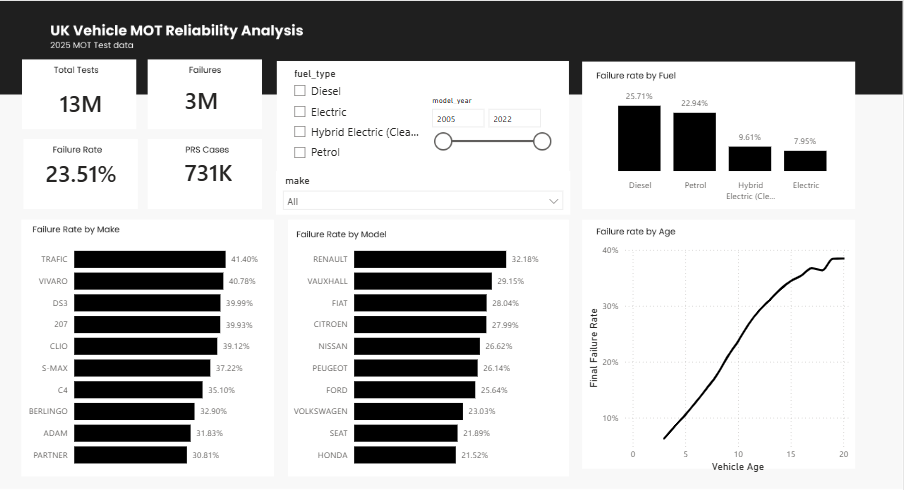

The page's visual inventory and layout, read from the dashboard file:
{"tool":"powerbi","page":{"name":"Page 1","canvas":[1280,720],"ordinal":0},"visuals":[{"type":"cardVisual","fields":{"Data":["mot_reliability.Total Tests"]},"box":[56.7,107.7,124.7,92.1],"z":0},{"type":"cardVisual","fields":{"Data":["mot_reliability.Total Failures"]},"box":[233.9,102,124.7,97.8],"z":1000},{"type":"cardVisual","fields":{"Data":["mot_reliability.Final Failure Rate"]},"box":[36.9,205.5,164.4,97.8],"z":2000},{"type":"cardVisual","fields":{"Data":["mot_reliability.Total PRS"]},"box":[233.9,199.8,136.1,103.5],"z":3000},{"type":"clusteredBarChart","fields":{"Category":["mot_reliability.make"],"Y":["mot_reliability.Final Failure Rate"]},"box":[405.4,340.2,365.7,344.4],"z":4000},{"type":"clusteredBarChart","fields":{"Category":["mot_reliability.model"],"Y":["mot_reliability.Final Failure Rate"]},"box":[32.6,340.2,347.2,344.4],"z":5000},{"type":"lineChart","fields":{"Y":["mot_reliability.Final Failure Rate"],"Category":["mot_reliability.Vehicle Age"]},"box":[829.1,350.1,382.7,334.5],"z":6000},{"type":"clusteredColumnChart","fields":{"Category":["mot_reliability.fuel_type"],"Y":["mot_reliability.Final Failure Rate"]},"box":[829.1,123.3,382.7,180],"z":7000},{"type":"slicer","fields":{"Values":["mot_reliability.make"]},"box":[392.6,252.3,416.7,62.4],"z":7001},{"type":"slicer","fields":{"Values":["mot_reliability.model_year"]},"box":[600.9,140.3,189.9,95],"z":7002},{"type":"slicer","fields":{"Values":["mot_reliability.fuel_type"]},"box":[405.4,100.6,195.6,151.7],"z":7003}]}

Visuals, with their boxes on the page's 1280x720 design canvas (x1, y1, x2, y2). These are canvas units, not pixel positions in the 904x490 screenshot, which may show the page scaled, cropped or inside an application window:
cardVisual - mot_reliability.Total Tests: rect(57, 108, 181, 200)
cardVisual - mot_reliability.Total Failures: rect(234, 102, 359, 200)
cardVisual - mot_reliability.Final Failure Rate: rect(37, 206, 201, 303)
cardVisual - mot_reliability.Total PRS: rect(234, 200, 370, 303)
clusteredBarChart - mot_reliability.make x mot_reliability.Final Failure Rate: rect(405, 340, 771, 685)
clusteredBarChart - mot_reliability.model x mot_reliability.Final Failure Rate: rect(33, 340, 380, 685)
lineChart - mot_reliability.Final Failure Rate x mot_reliability.Vehicle Age: rect(829, 350, 1212, 685)
clusteredColumnChart - mot_reliability.fuel_type x mot_reliability.Final Failure Rate: rect(829, 123, 1212, 303)
slicer - mot_reliability.make: rect(393, 252, 809, 315)
slicer - mot_reliability.model_year: rect(601, 140, 791, 235)
slicer - mot_reliability.fuel_type: rect(405, 101, 601, 252)
